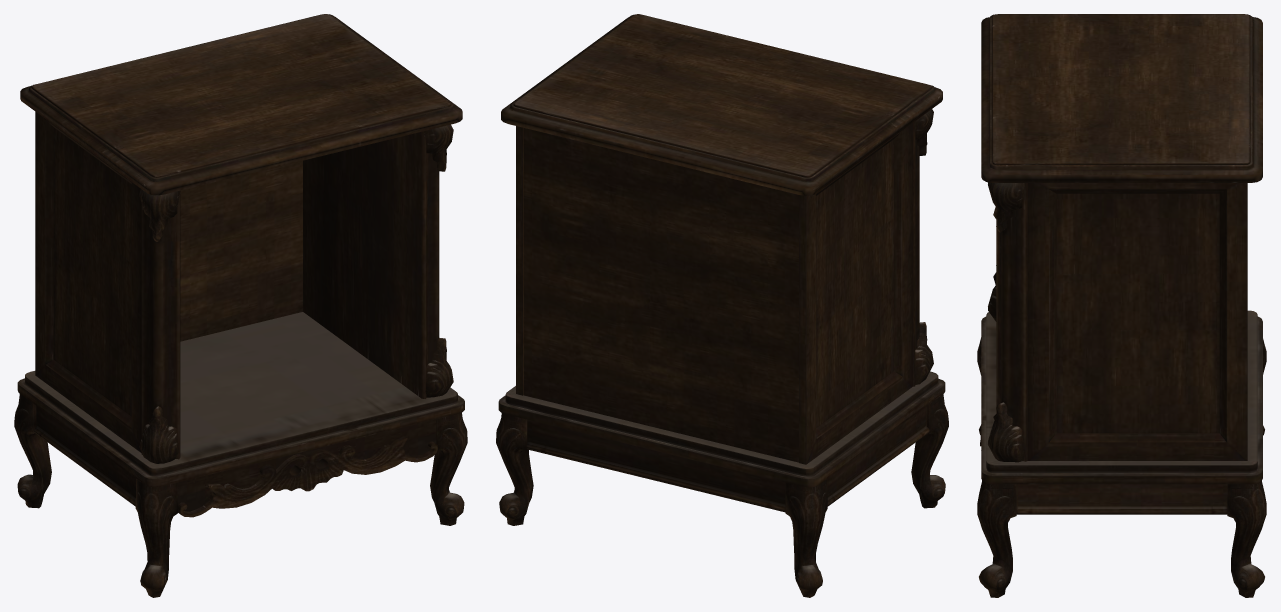
The model's file is ClassicNightstand_01.glb.
The picture shows the model from 3 angles, left to right: view 1: azimuth 30°, elevation 25°; view 2: azimuth 150°, elevation 25°; view 3: azimuth 270°, elevation 25°; orthographic projection. The views are drawn at different scales.
Parts seen in each view (by area): view 1: ClassicNightstand_01; view 2: ClassicNightstand_01; view 3: ClassicNightstand_01.
Boxes of the visible parts, x1,y1,x2,y2 form: ClassicNightstand_01: (14,14,467,597); ClassicNightstand_01: (496,14,948,597); ClassicNightstand_01: (977,14,1266,597).
Bounding box in the file's own units: 0.5678 × 0.7 × 0.4242.
Materials: 1 (1 with a texture image).
